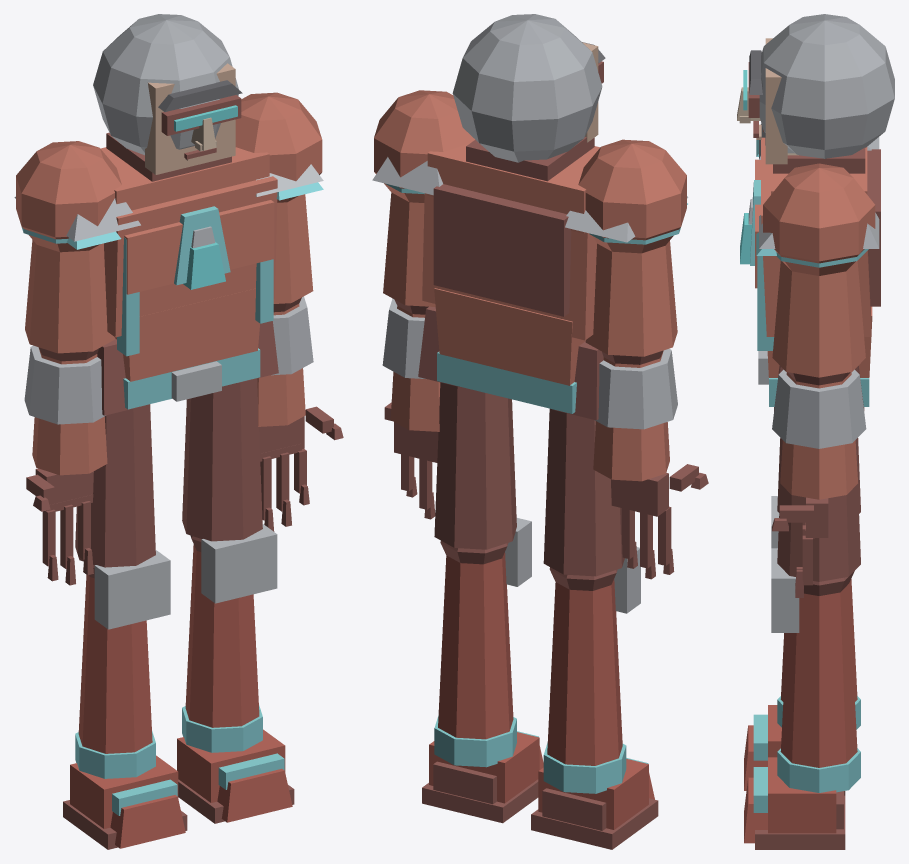
Rendered from volt.glb.
The picture shows the model from 3 angles, left to right: view 1: azimuth 30°, elevation 25°; view 2: azimuth 150°, elevation 25°; view 3: azimuth 270°, elevation 25°; orthographic projection. The views are drawn at different scales.
Parts seen in each view (by area): view 1: torso, head, upperArmL, lowerLegR, lowerLegL, upperLegR, upperArmR, upperLegL, lowerArmL, footL, footR, hips (+3 smaller); view 2: torso, upperArmL, head, lowerLegR, lowerLegL, upperLegR, upperLegL, upperArmR, lowerArmL, footL, hips, footR (+3 smaller); view 3: upperArmR, head, lowerLegR, lowerArmR, torso, footR, upperLegR, handR, footL, lowerLegL, hips, upperLegL.
Part boxes in pixels (bbox=[...]): torso: bbox=[14, 132, 323, 381]; head: bbox=[93, 14, 242, 174]; upperArmL: bbox=[16, 141, 121, 361]; lowerLegR: bbox=[182, 524, 277, 752]; lowerLegL: bbox=[75, 550, 170, 778]; upperLegR: bbox=[182, 378, 262, 551]; upperArmR: bbox=[235, 92, 322, 312]; upperLegL: bbox=[75, 337, 155, 578]; lowerArmL: bbox=[24, 345, 107, 475]; footL: bbox=[63, 755, 187, 849]; footR: bbox=[177, 729, 294, 823]; hips: bbox=[97, 321, 278, 415]; torso: bbox=[372, 137, 688, 385]; upperArmL: bbox=[578, 139, 686, 364]; head: bbox=[452, 14, 605, 162]; lowerLegR: bbox=[434, 518, 531, 767]; lowerLegL: bbox=[543, 547, 640, 793]; upperLegR: bbox=[434, 382, 516, 564]; upperLegL: bbox=[543, 341, 624, 590]; upperArmR: bbox=[374, 90, 474, 314]; lowerArmL: bbox=[593, 348, 677, 481]; footL: bbox=[531, 758, 658, 849]; hips: bbox=[418, 306, 603, 420]; footR: bbox=[422, 731, 543, 823]; upperArmR: bbox=[763, 163, 875, 385]; head: bbox=[737, 14, 894, 164]; lowerLegR: bbox=[771, 548, 860, 792]; lowerArmR: bbox=[772, 369, 866, 499]; torso: bbox=[740, 123, 880, 377]; footR: bbox=[744, 757, 845, 849]; upperLegR: bbox=[777, 440, 860, 595]; handR: bbox=[772, 497, 828, 597]; footL: bbox=[744, 705, 845, 795]; lowerLegL: bbox=[771, 496, 860, 729]; hips: bbox=[758, 351, 869, 410]; upperLegL: bbox=[777, 438, 860, 513].
Bounding box in the file's own units: 0.6846 × 1.69 × 0.309.
